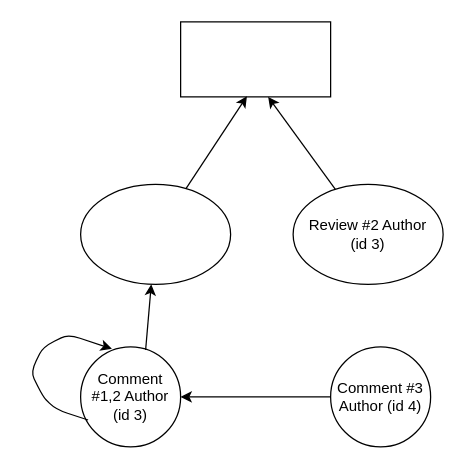
Image size: 465x469. Some labels were removed from this diagram. Here are the shapes that lost their labels. From the top down, the centre of each, then its label:
At point (255, 59): "Pull Request #1 Author (id 1)".
At point (155, 233): "Review #1 Author (id 2)".
